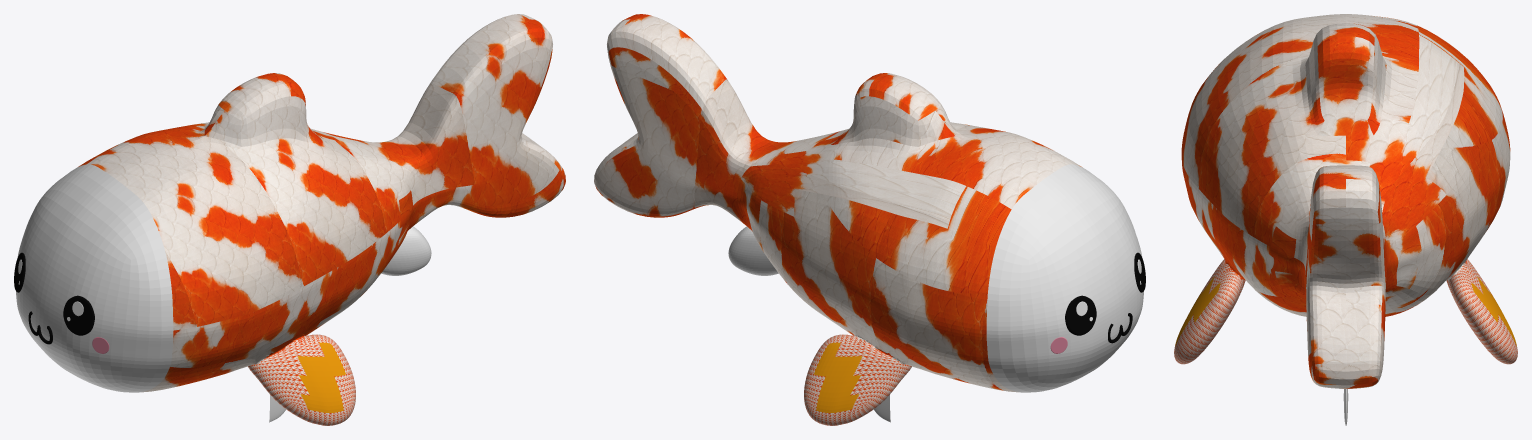
Rendered from 06-30__Koifish.glb.
The picture shows the model from 3 angles, left to right: view 1: azimuth 30°, elevation 25°; view 2: azimuth 150°, elevation 25°; view 3: azimuth 270°, elevation 25°; orthographic projection. The views are drawn at different scales.
Parts seen in each view (by area): view 1: Body, Finn R, Finn, Eye; view 2: Body, Finn R, Finn, Eye; view 3: Body, Finn R.
Part boxes in pixels (x1,y1,x2,y2): Body: (16, 14, 565, 392); Finn R: (248, 334, 355, 425); Finn: (381, 226, 431, 275); Eye: (14, 252, 94, 335); Body: (594, 14, 1143, 392); Finn R: (804, 334, 911, 425); Finn: (728, 226, 778, 275); Eye: (1065, 252, 1145, 335); Body: (1181, 14, 1510, 388); Finn R: (1174, 259, 1517, 364).
Bounding box in the file's own units: 33.2 × 21.04 × 16.59.
7 materials, 2 textured.
